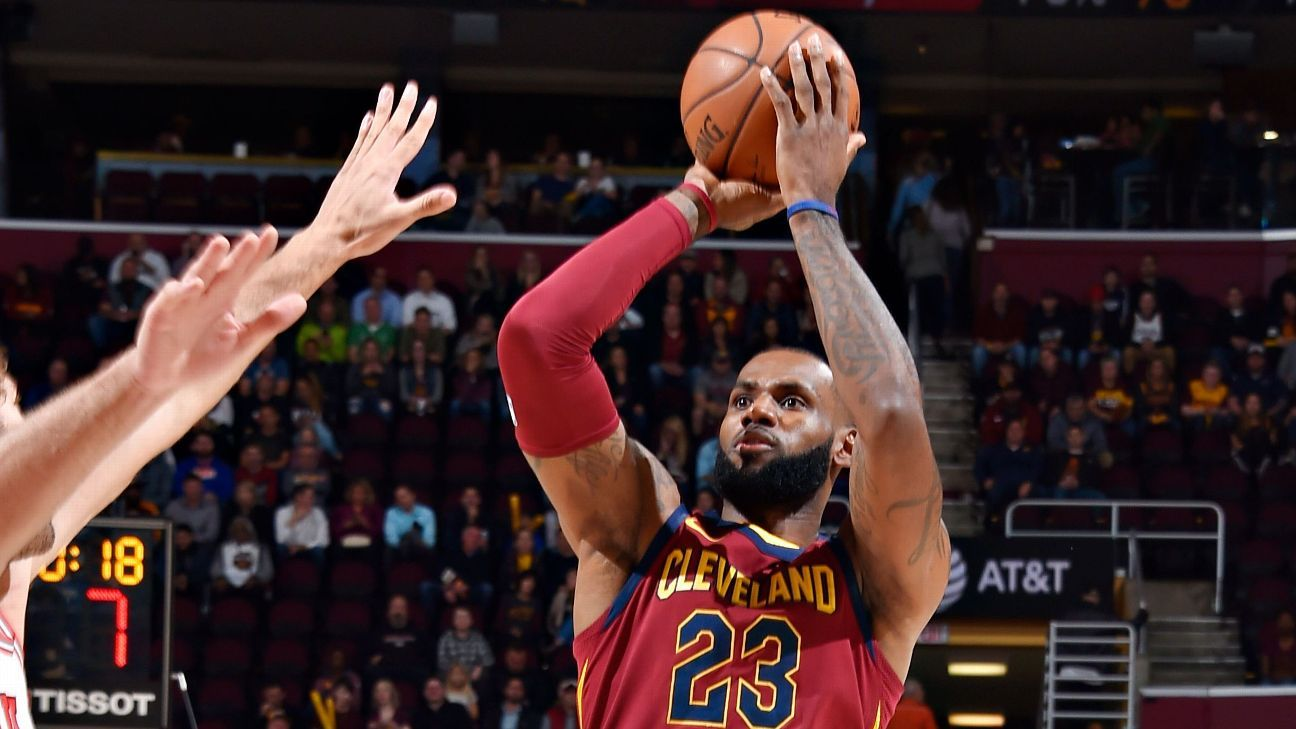Basketball: (674, 4, 868, 196)
